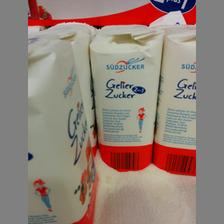Zucker: (88, 24, 162, 172), (155, 25, 195, 175)
